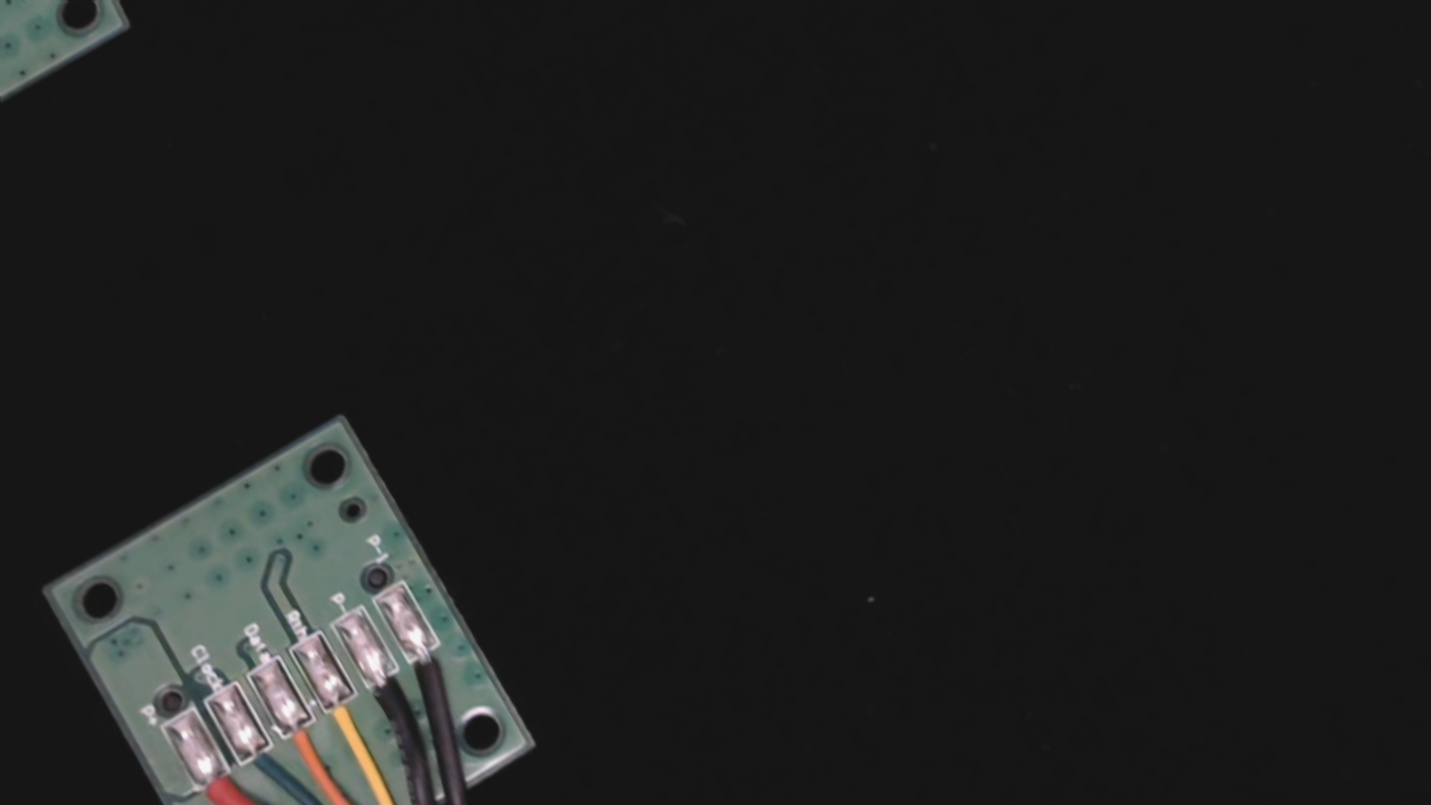Black: (348, 650, 428, 739)
Black1: (394, 622, 476, 712)
Green: (221, 723, 304, 805)
Orange: (264, 700, 349, 795)
Red: (177, 749, 262, 805)
Yellow: (302, 671, 391, 770)
